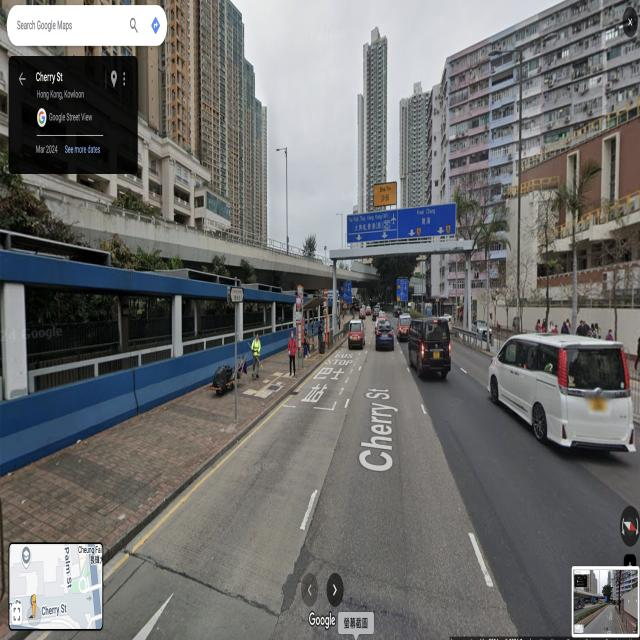Direction-Sign: (348, 204, 455, 242), (397, 279, 408, 301), (340, 281, 351, 299)
Street-Direction-Sign: (230, 287, 243, 302)
Warning-Sign: (343, 300, 347, 309), (436, 295, 439, 302)
